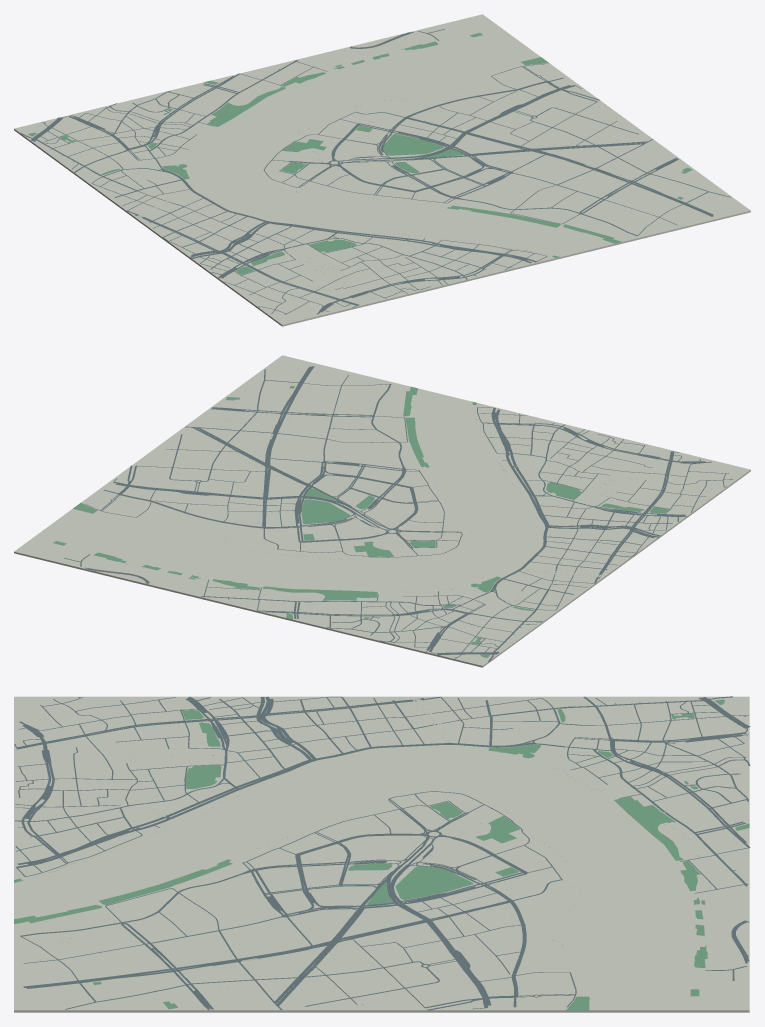
The model's file is terrain.glb.
3 renders of one model, top to bottom at view 1: azimuth 30°, elevation 25°; view 2: azimuth 150°, elevation 25°; view 3: azimuth 270°, elevation 25°, orthographic. The views are drawn at different scales.
Parts seen in each view (by area): view 1: terrain-base, street-network, riverside-parks; view 2: terrain-base, street-network, riverside-parks; view 3: terrain-base, street-network, riverside-parks.
Boxes of the visible parts, x1,y1,x2,y2 form: terrain-base: [14, 14, 750, 326]; street-network: [19, 29, 730, 314]; riverside-parks: [28, 32, 692, 274]; terrain-base: [14, 355, 750, 667]; street-network: [64, 366, 732, 661]; riverside-parks: [53, 386, 668, 657]; terrain-base: [14, 696, 749, 1012]; street-network: [14, 696, 750, 1010]; riverside-parks: [14, 699, 749, 1010].
Bounding box in the file's own units: 3510 × 13.15 × 3476.
